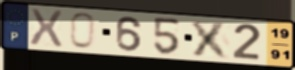0: (68, 11, 100, 51)
2: (231, 23, 265, 63)
5: (152, 15, 183, 57)
6: (114, 16, 144, 53)
X: (188, 18, 233, 61), (28, 7, 65, 49)
